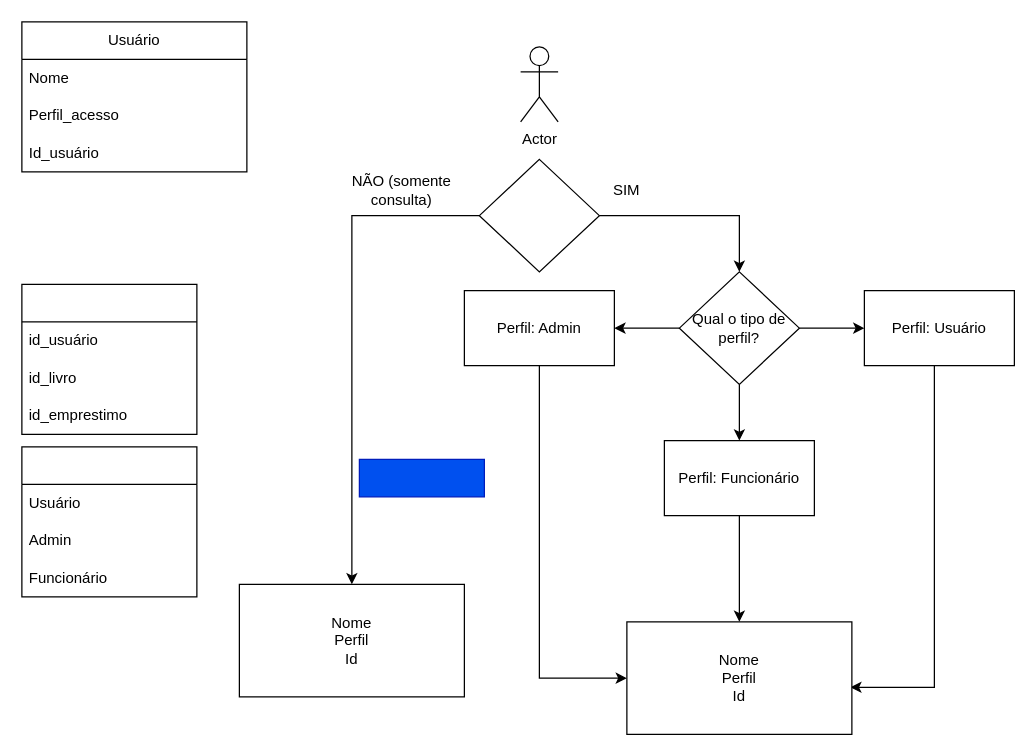
The diagram is 1036 pixels wide and 756 high, and some of its shapes have lost their labels. Each missing label, with the box of its shape:
Cadastro novo usuário?: (478, 158, 599, 272)
Cenário: Concultar livro: (358, 458, 484, 497)
Histórico: (21, 283, 197, 434)
Perfil de acesso: (21, 446, 197, 597)
